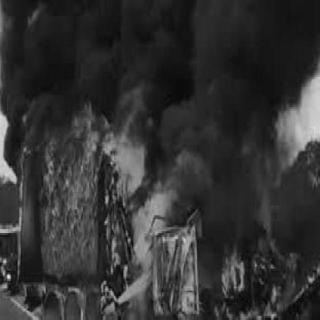Fire: (22, 107, 150, 311), (224, 116, 306, 316)
